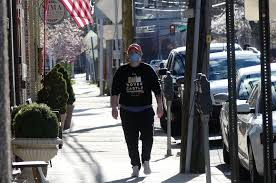mask: (126, 43, 140, 65)
